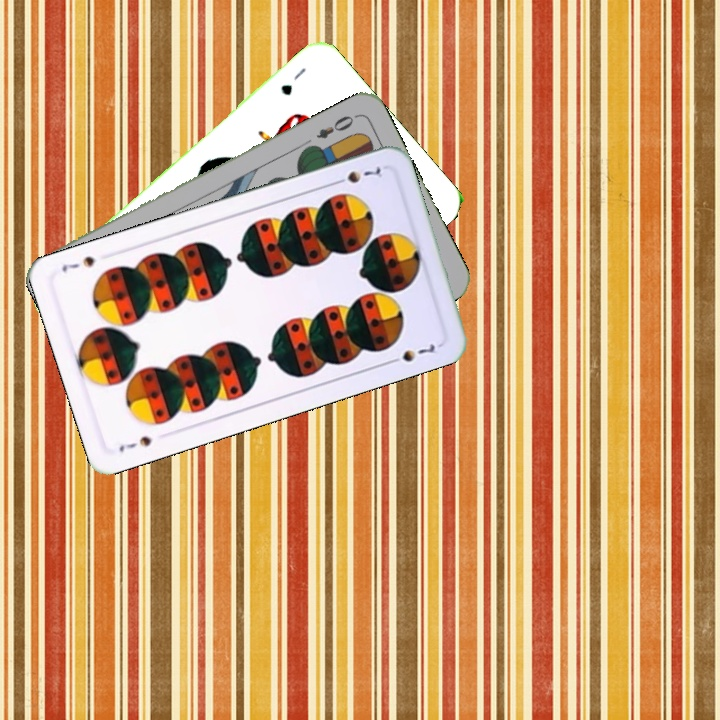EO: (312, 110, 360, 142)
GU: (276, 63, 309, 98)
S7: (329, 163, 385, 188), (115, 432, 155, 455)
